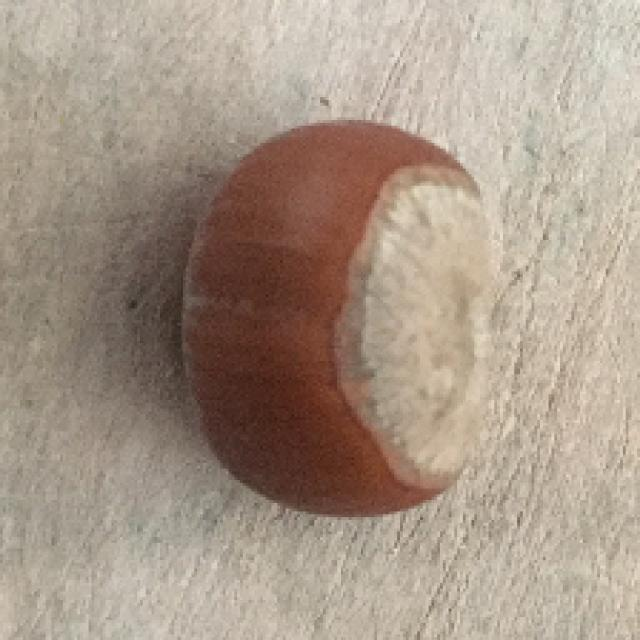qualityHazelnut: (178, 112, 500, 518)
